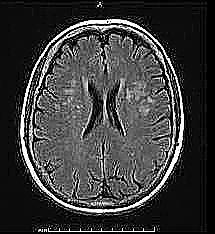Normal_Brain: (1, 2, 215, 234)
